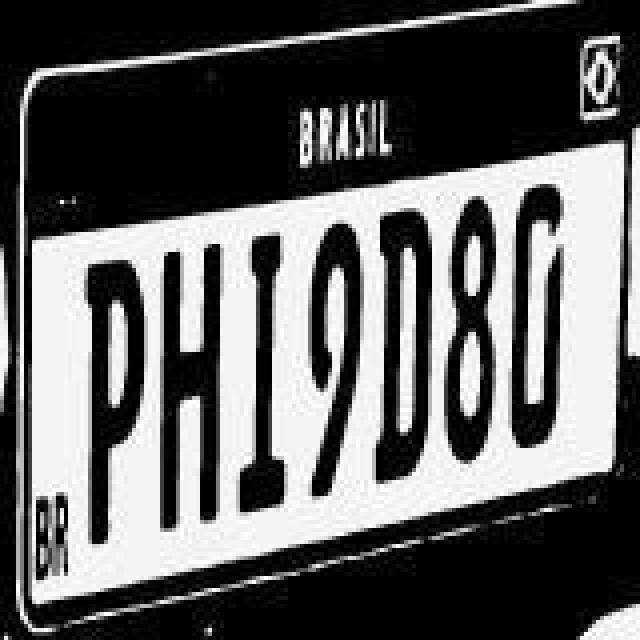8: (440, 194, 512, 494)
9: (300, 218, 364, 510)
D: (506, 184, 582, 480), (368, 206, 440, 490)
H: (146, 224, 230, 536)
I: (226, 232, 294, 520)
P: (78, 250, 146, 558)
